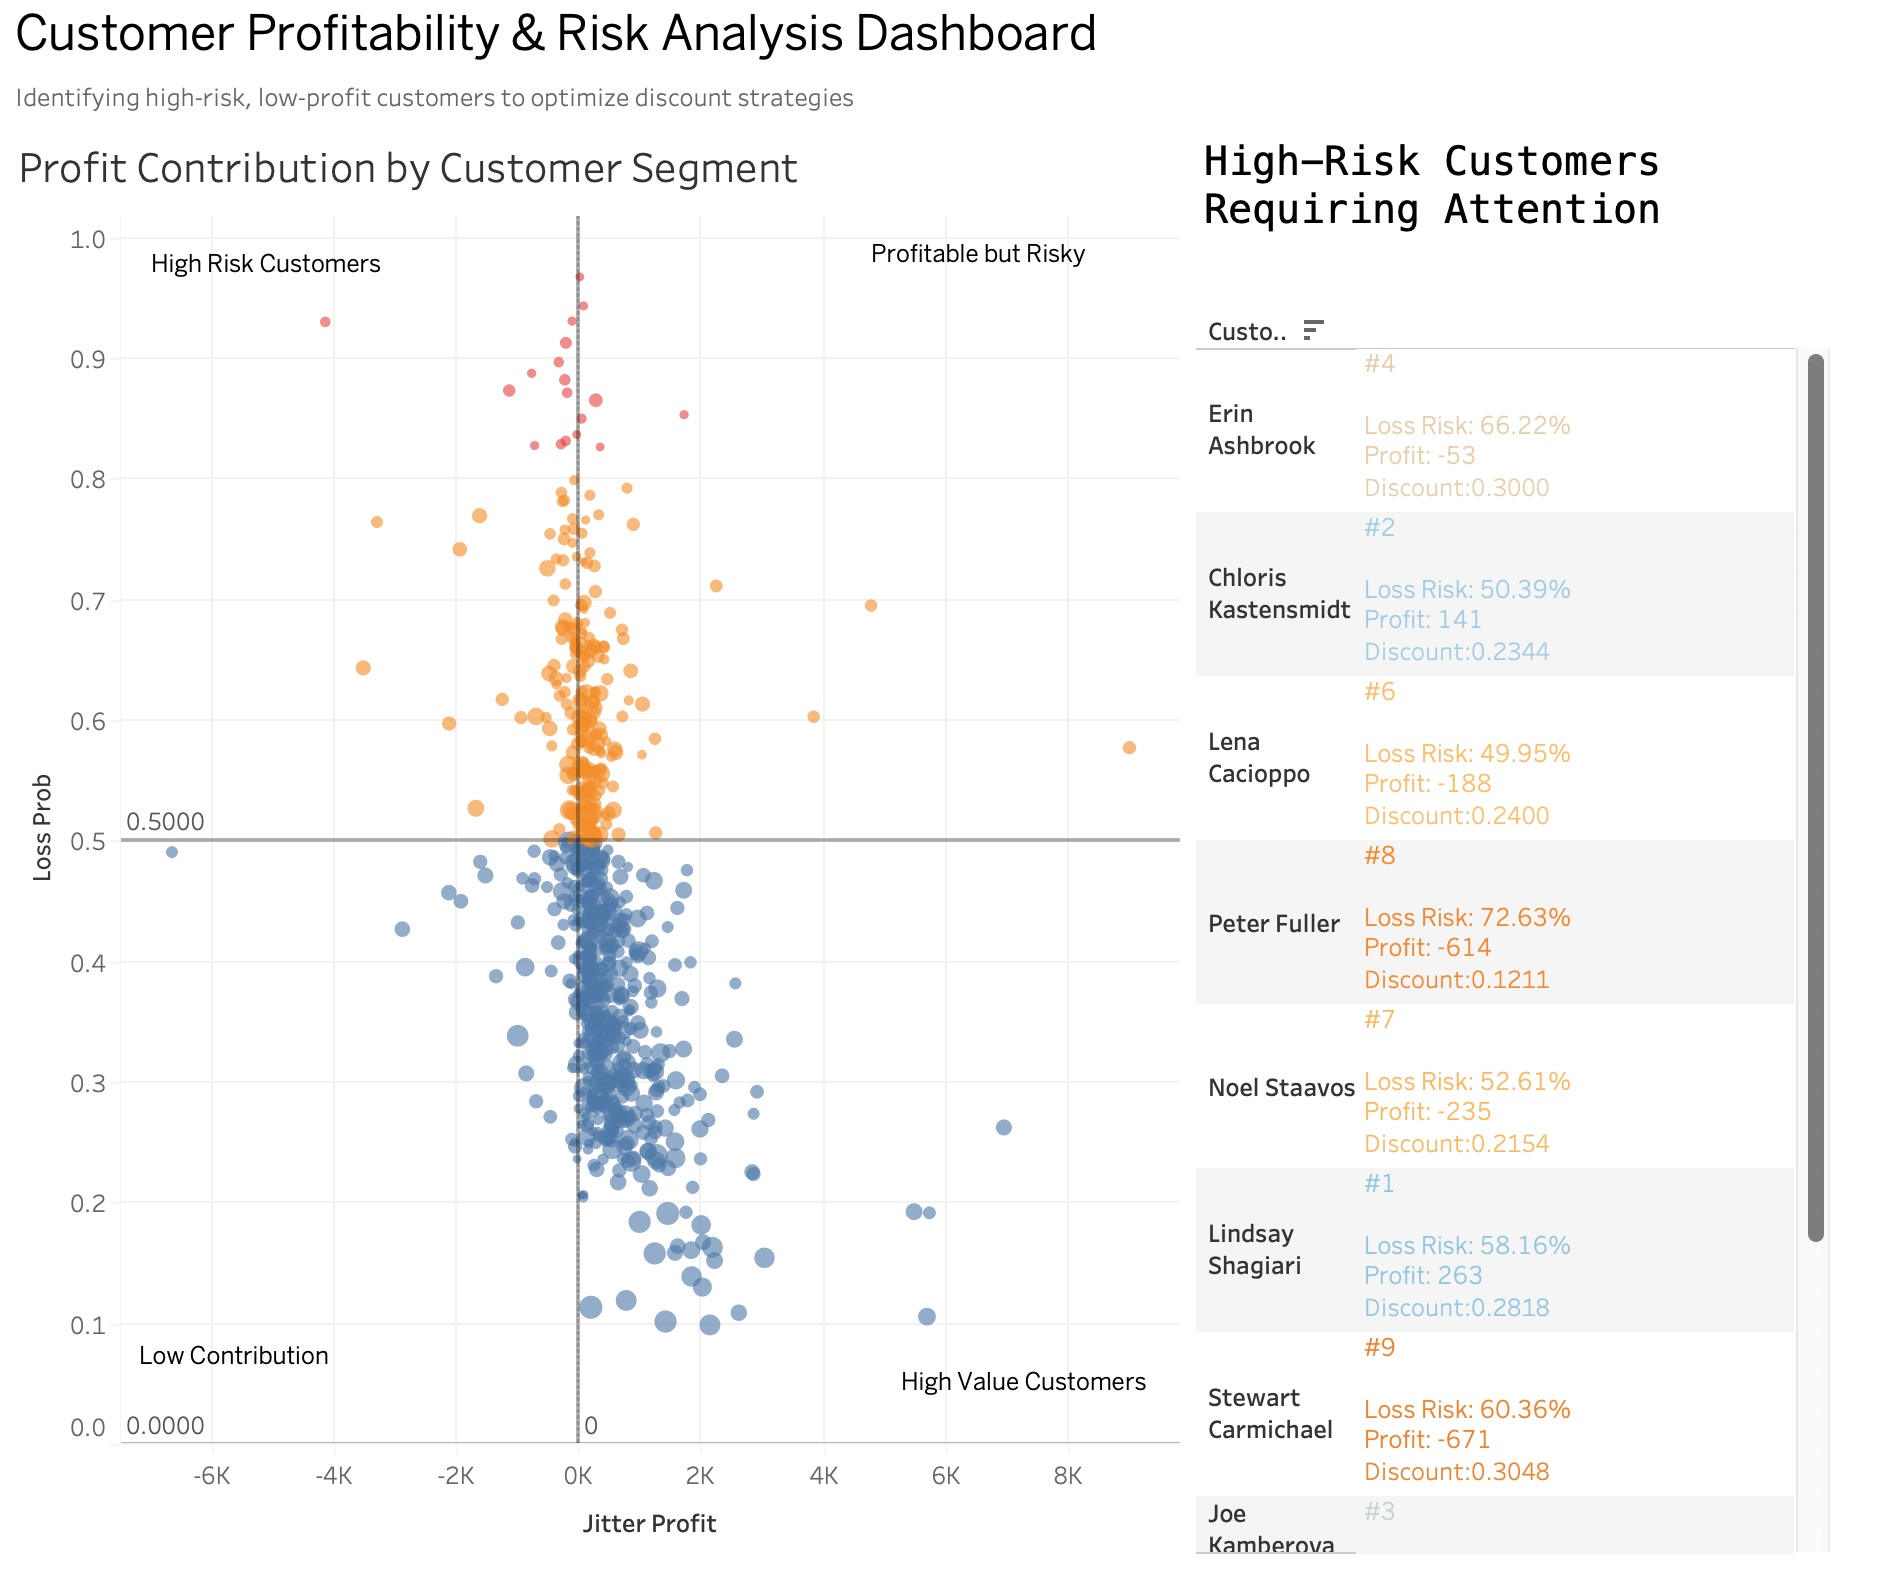

What the dashboard file says about the page in this screenshot:
{"tool":"tableau","page":{"name":"How Discounting Impacts Profitability Across Customer Segments","canvas":[1000,800],"ordinal":1},"visuals":[{"type":"title","box":[8,8,984,39]},{"type":"text","box":[8,47,984,25]},{"type":"worksheet","title":"Profit Contribution by Customer Segment","mark":"Automatic","rows":["Loss_Prob"],"cols":["Calculation_0337342663741457"],"box":[8,72,593,720]},{"type":"worksheet","title":"High-Risk customers","mark":"Text","rows":["Customer Name"],"box":[601,72,391,720]},{"type":"text","box":[440,118,121,40]},{"type":"text","box":[80,123,129,40]},{"type":"text","box":[74,669,109,40]},{"type":"text","box":[455,682,136,40]}]}

Visuals, with their boxes on the page's 1000x800 design canvas (x1, y1, x2, y2). These are canvas units, not pixel positions in the 1882x1576 screenshot, which may show the page scaled, cropped or inside an application window:
title: select_region(8, 8, 992, 47)
text: select_region(8, 47, 992, 72)
"Profit Contribution by Customer Segment" worksheet: select_region(8, 72, 601, 792)
"High-Risk customers" worksheet (Text marks): select_region(601, 72, 992, 792)
text: select_region(440, 118, 561, 158)
text: select_region(80, 123, 209, 163)
text: select_region(74, 669, 183, 709)
text: select_region(455, 682, 591, 722)
